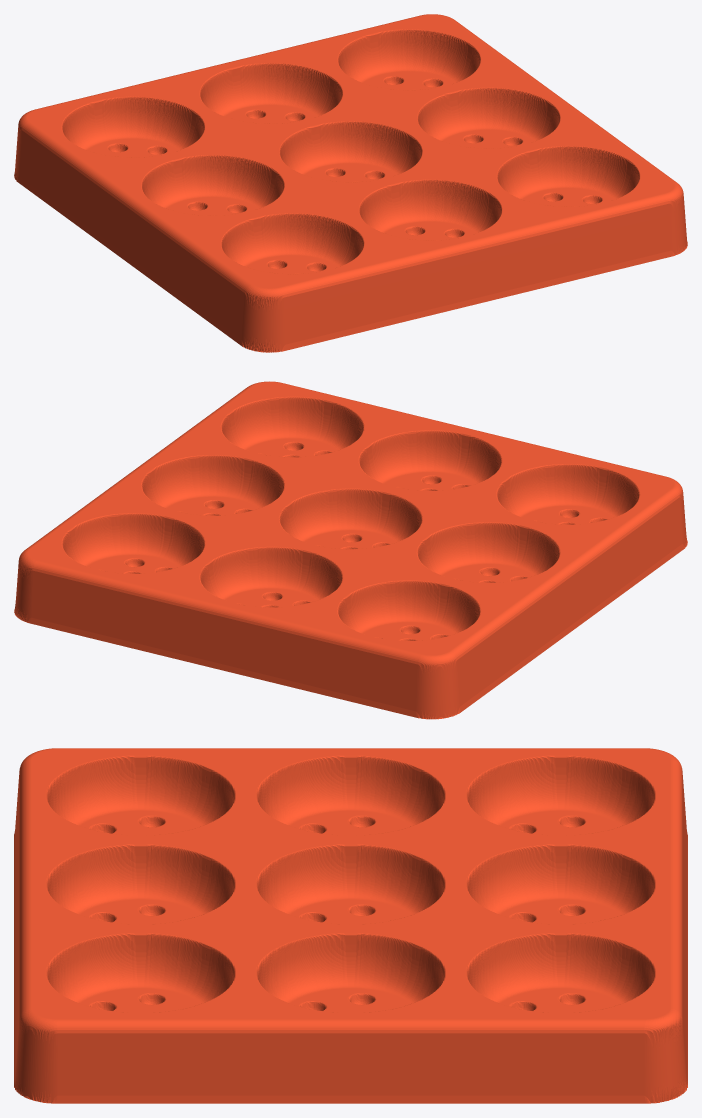
File: mold.glb
The picture shows the model from 3 angles, top to bottom: view 1: azimuth 30°, elevation 25°; view 2: azimuth 150°, elevation 25°; view 3: azimuth 270°, elevation 25°; orthographic projection. The views are drawn at different scales.
Parts seen in each view (by area): view 1: geometry_0; view 2: geometry_0; view 3: geometry_0.
Boxes of the visible parts, box(x1,y1,x2,y2) form: geometry_0: box(14, 14, 687, 352); geometry_0: box(14, 381, 687, 719); geometry_0: box(14, 748, 687, 1103).
Bounding box in the file's own units: 0.1387 × 0.0175 × 0.1387.
